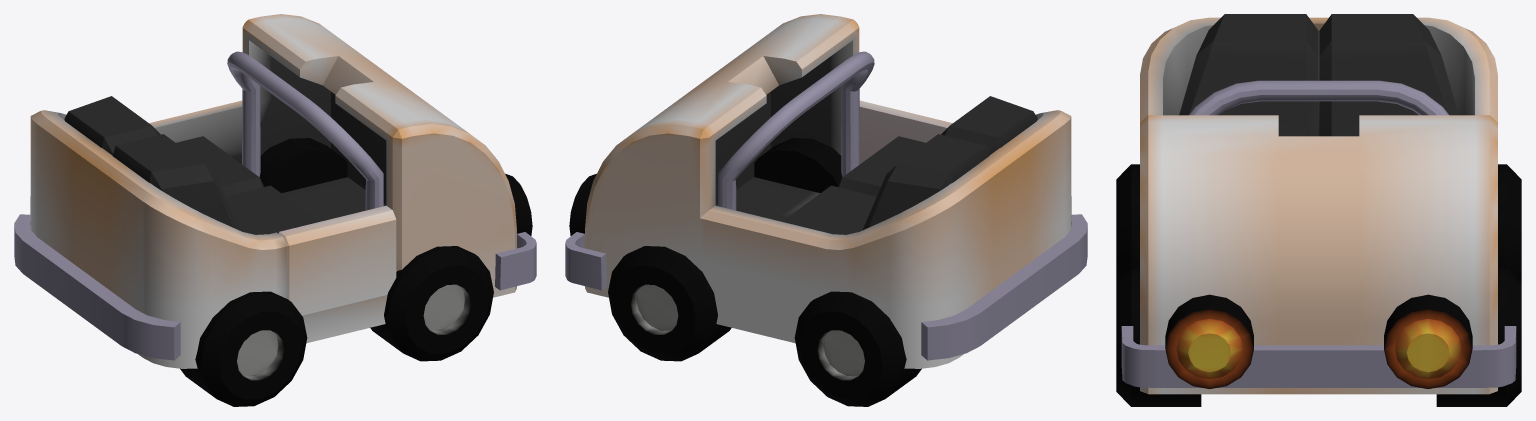
Rendered from white-front.obj.
3 renders of one model, left to right at view 1: azimuth 30°, elevation 25°; view 2: azimuth 150°, elevation 25°; view 3: azimuth 270°, elevation 25°, orthographic. The views are drawn at different scales.
Parts seen in each view (by area): view 1: Cube.049_Mesh; view 2: Cube.049_Mesh; view 3: Cube.049_Mesh.
Part boxes in pixels (x1,y1,x2,y2): Cube.049_Mesh: (14, 14, 536, 406); Cube.049_Mesh: (565, 14, 1087, 406); Cube.049_Mesh: (1116, 14, 1521, 406).
Bounding box in the file's own units: 3.63 × 2.1 × 2.81.
